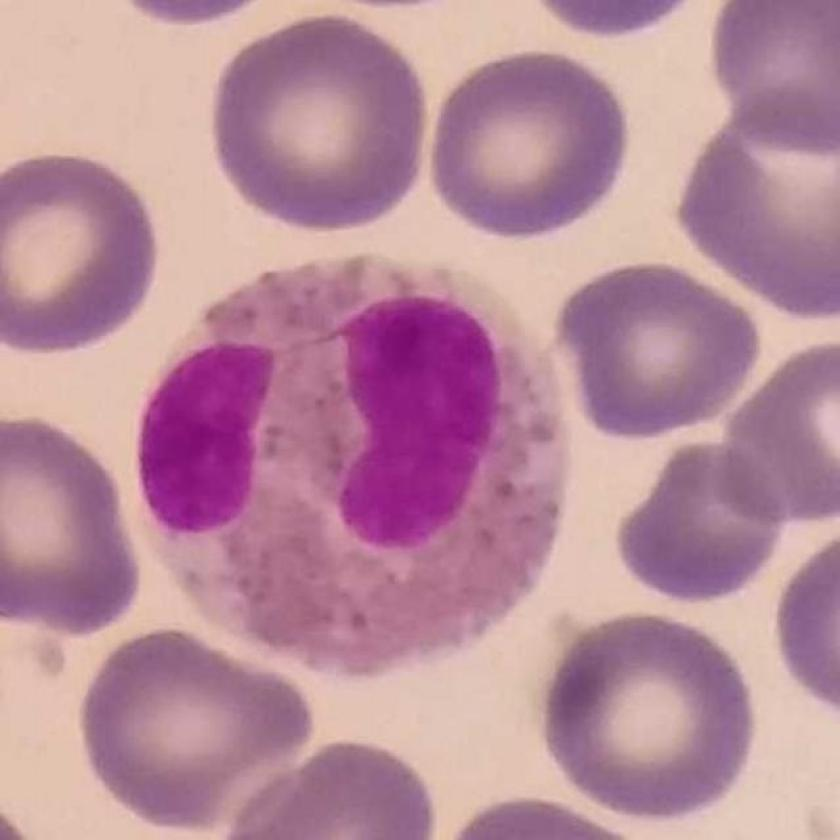eosinophil: (142, 248, 574, 681)
